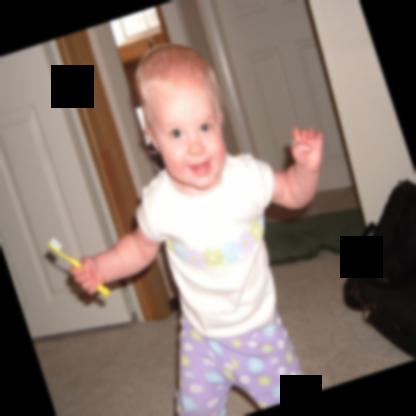handbag: (343, 178, 416, 356)
